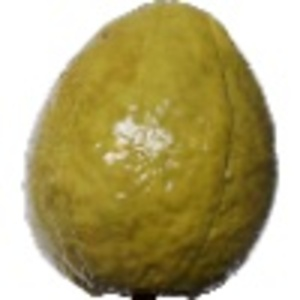goiaba: (7, 4, 284, 291)
